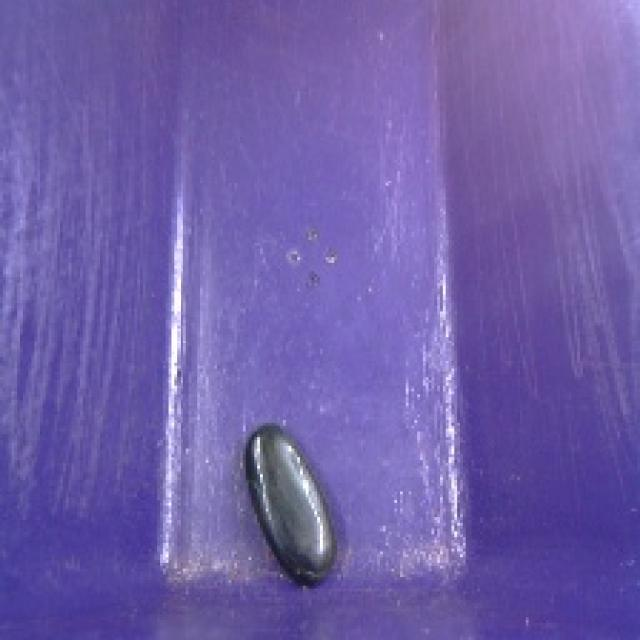cobbles: (234, 417, 348, 602)
